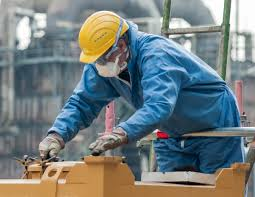Person_wearing_helmet: (75, 11, 132, 67)
